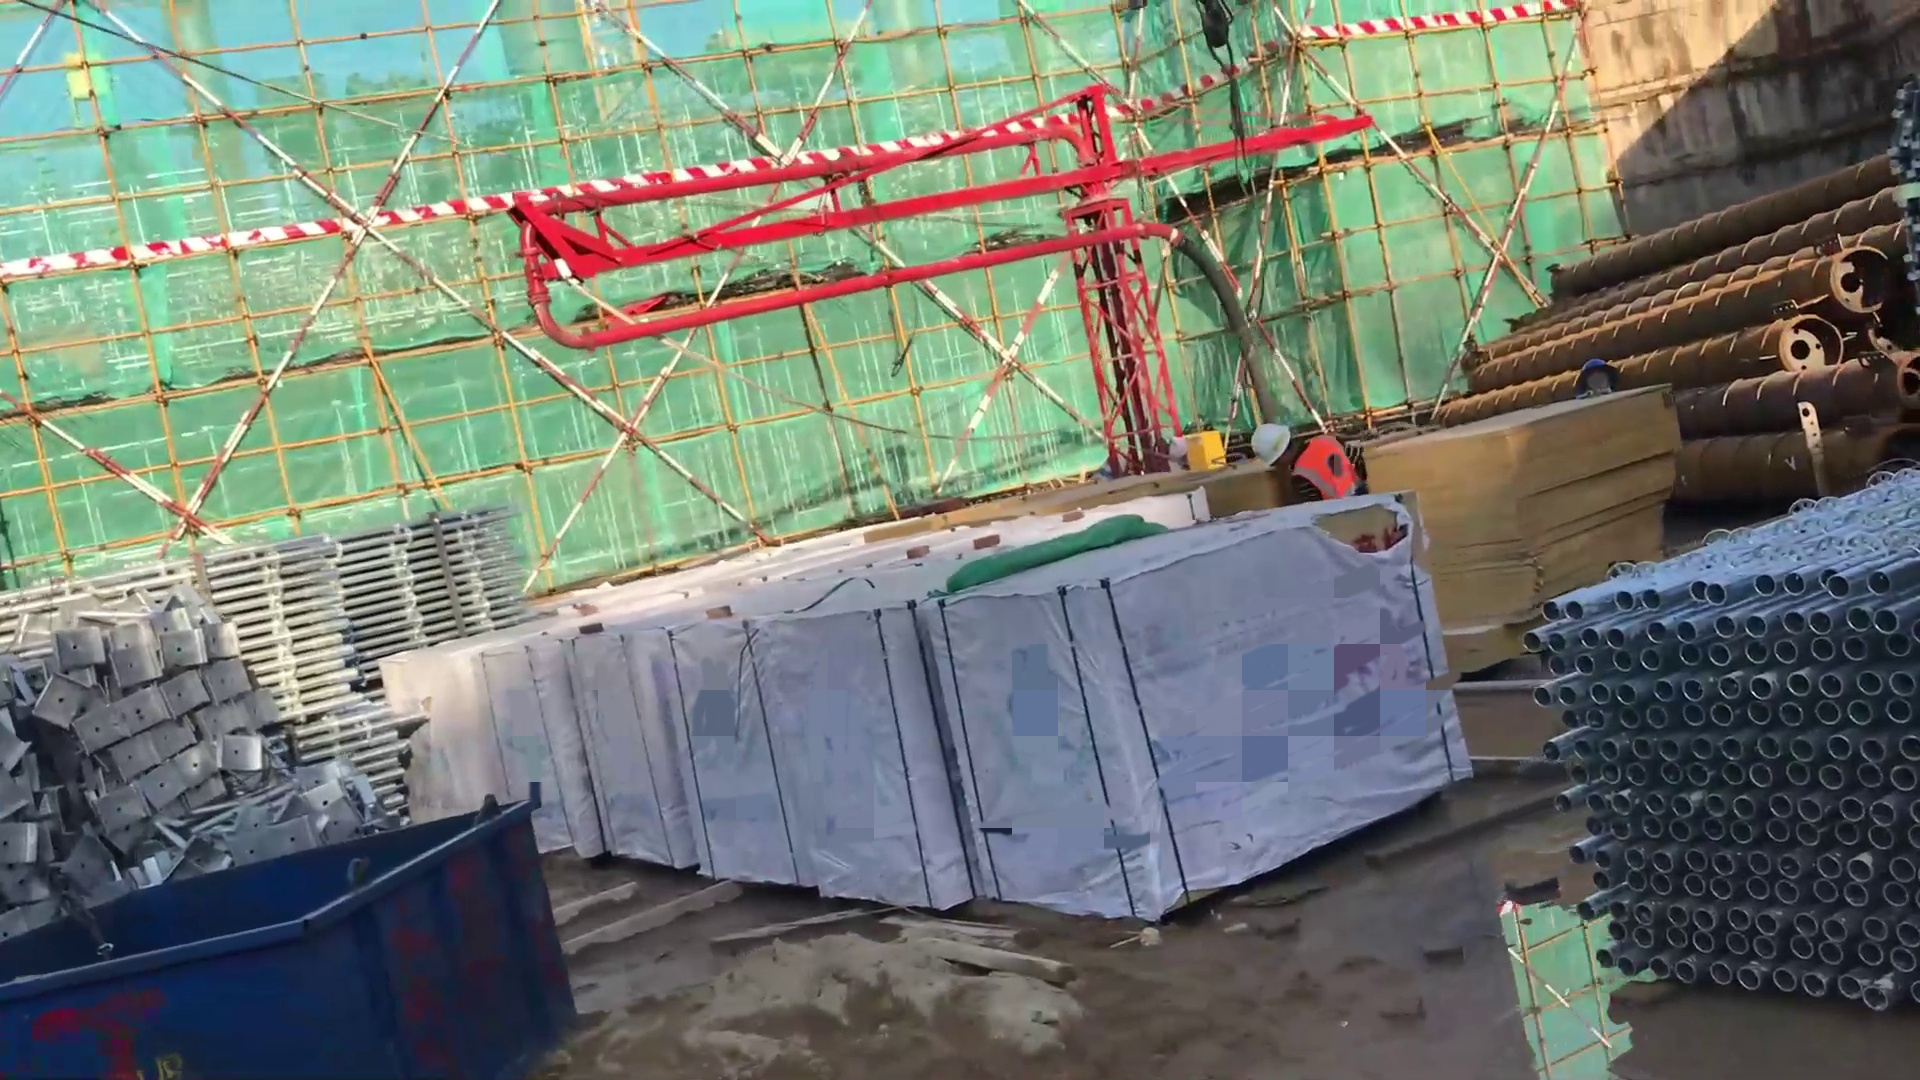board: (1372, 374, 1684, 686)
ebox: (1175, 426, 1243, 482)
helmet: (1251, 405, 1293, 474)
hopper: (1, 771, 563, 1074)
person: (1248, 416, 1367, 549)
scaffold: (1523, 453, 1920, 1007), (1, 494, 337, 748), (336, 481, 509, 677), (297, 684, 430, 862)
vest: (1280, 430, 1365, 523)
